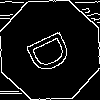D: (25, 25, 81, 77)
